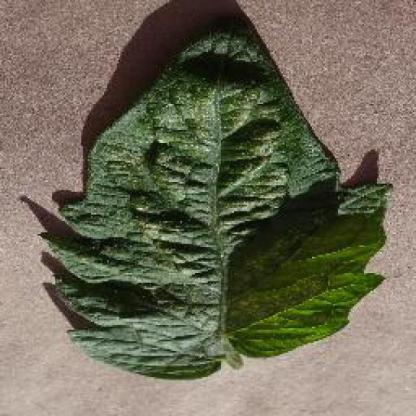Tomato_Spider_Mites: (48, 20, 392, 369)
